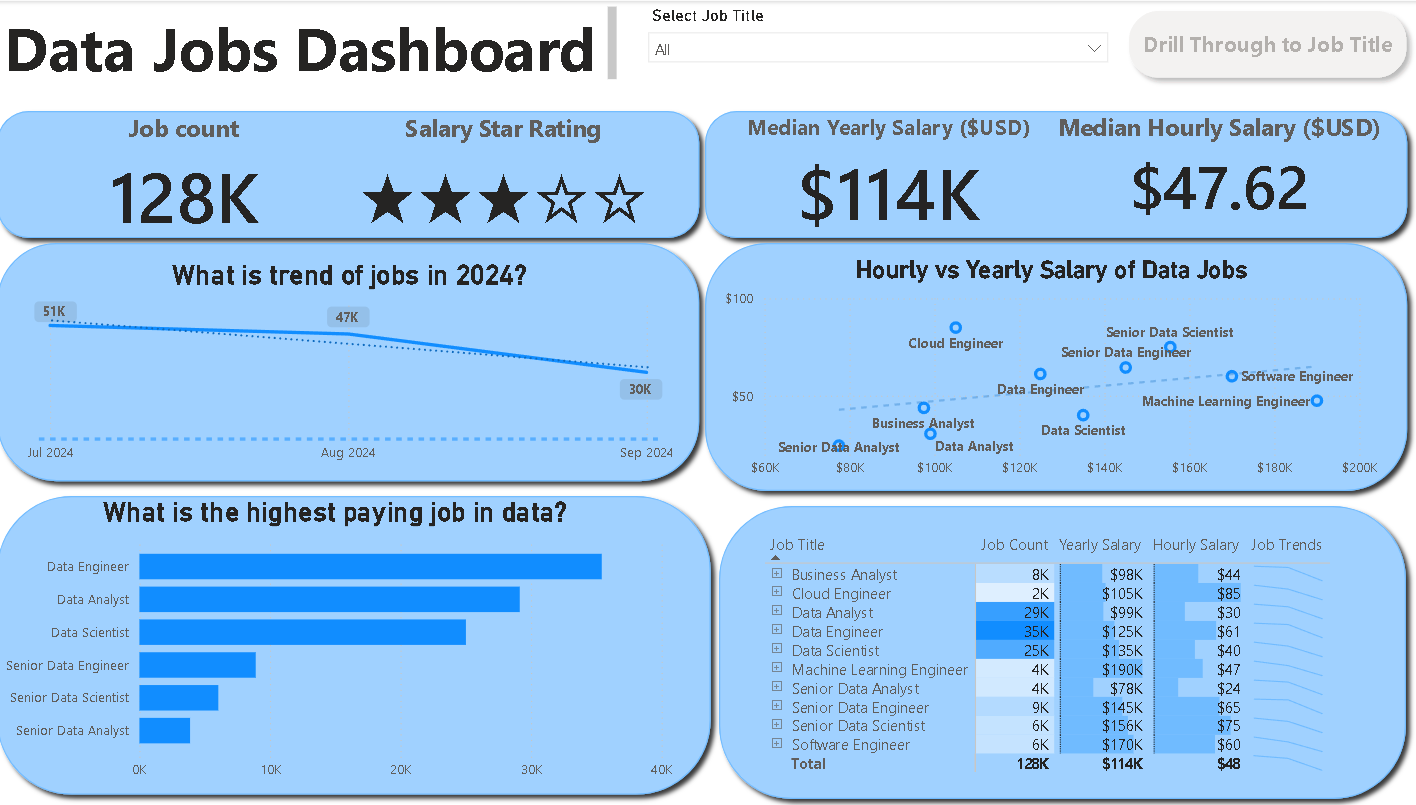

This screenshot's page, from the dashboard's own definition file:
{"tool":"powerbi","page":{"name":"Data Jobs dashboard","canvas":[1280,720],"ordinal":0},"visuals":[{"type":"group","id":"g1","title":"Background","box":[0,78.8,1280.6,635.8],"z":0},{"type":"shape","box":[0,78.8,646.8,131.7],"z":0,"group":"g1"},{"type":"textbox","box":[10.2,0,559,77.6],"z":1000},{"type":"shape","box":[633.7,78.8,646.8,131.7],"z":1000,"group":"g1"},{"type":"slicer","fields":{"Values":["job_postings_flat.job_title_short"]},"box":[582.4,0,431.7,64.4],"z":2000},{"type":"shape","box":[1.8,200.6,638.5,231.9],"z":2000,"group":"g1"},{"type":"cardVisual","fields":{"Data":["Median(job_postings_flat.salary_hour_avg)"]},"box":[926,66.3,353.7,162.1],"z":3000},{"type":"shape","box":[0,429,657.3,285.7],"z":3000,"group":"g1"},{"type":"cardVisual","fields":{"Data":["Median(job_postings_flat.salary_year_avg)"]},"box":[646.6,78.8,320.6,153.1],"z":4000},{"type":"shape","box":[633.1,201.5,646.6,240],"z":4000,"group":"g1"},{"type":"cardVisual","fields":{"Data":["job_postings_flat.Salary Star Rating"]},"box":[289.8,68.8,342.4,172.7],"z":5000},{"type":"shape","box":[646.6,432.6,633.1,280.3],"z":5000,"group":"g1"},{"type":"cardVisual","fields":{"Data":["CountNonNull(job_postings_flat.job_title_short)"]},"box":[0,68.8,351.2,172.7],"z":6000},{"type":"lineChart","title":"What is trend of jobs in 2024?","fields":{"Category":["job_postings_flat.job_posted_date.Variation.Date Hierarchy.Year","job_postings_flat.job_posted_date.Variation.Date Hierarchy.Quarter","job_postings_flat.job_posted_date.Variation.Date Hierarchy.Month","job_postings_flat.job_posted_date.Variation.Date Hierarchy.Day"],"Y":["CountNonNull(job_postings_flat.job_title_short)"]},"box":[30.7,231.2,588.3,190.2],"z":7000},{"type":"barChart","title":"What is the highest paying job in data? ","fields":{"Category":["job_postings_flat.job_title_short"],"Y":["CountNonNull(job_postings_flat.job_title_short)"]},"box":[21.5,451.3,602.7,241.8],"z":8000},{"type":"scatterChart","title":"Hourly vs Yearly Salary  of Data Jobs","fields":{"X":["Median(job_postings_flat.salary_year_avg)"],"Y":["Median(job_postings_flat.salary_hour_avg)"],"Series":["job_postings_flat.job_title_short"]},"box":[657.3,221.2,592.8,206],"z":10000},{"type":"pivotTable","fields":{"Rows":["job_postings_flat.job_title_short","job_postings_flat.job_posted_date.Variation.Date Hierarchy.Quarter"],"Values":["CountNonNull(job_postings_flat.job_title_short)","Median(job_postings_flat.salary_year_avg)","Median(job_postings_flat.salary_hour_avg)","SparklineData(CountNonNull(job_postings_flat.job_title_short)_[job_postings_flat.job_posted_date.Variation.Date Hierarch"]},"box":[685.1,459.4,588.4,247.2],"z":11000},{"type":"actionButton","box":[1014.1,0,266.3,77.6],"z":12000}]}

Visuals, with their boxes in screenshot pixels (x1, y1, x2, y2), scaled from the page's 1280x720 canvas onto the 1416x805 screenshot:
"Background" group: bbox=(0, 88, 1415, 799)
shape: bbox=(0, 88, 716, 235)
textbox: bbox=(11, 0, 630, 87)
shape: bbox=(701, 88, 1415, 235)
slicer - job_postings_flat.job_title_short: bbox=(644, 0, 1122, 72)
shape: bbox=(2, 224, 708, 484)
cardVisual - Median(job_postings_flat.salary_hour_avg): bbox=(1024, 74, 1415, 255)
shape: bbox=(0, 480, 727, 799)
cardVisual - Median(job_postings_flat.salary_year_avg): bbox=(715, 88, 1070, 259)
shape: bbox=(700, 225, 1415, 494)
cardVisual - job_postings_flat.Salary Star Rating: bbox=(321, 77, 699, 270)
shape: bbox=(715, 484, 1415, 797)
cardVisual - CountNonNull(job_postings_flat.job_title_short): bbox=(0, 77, 389, 270)
"What is trend of jobs in 2024?" lineChart: bbox=(34, 258, 685, 471)
"What is the highest paying job in data? " barChart: bbox=(24, 505, 691, 775)
"Hourly vs Yearly Salary  of Data Jobs" scatterChart: bbox=(727, 247, 1383, 478)
pivotTable - job_postings_flat.job_title_short x job_postings_flat.job_posted_date.Variation.Date Hierarchy.Quarter: bbox=(758, 514, 1409, 790)
actionButton: bbox=(1122, 0, 1415, 87)
